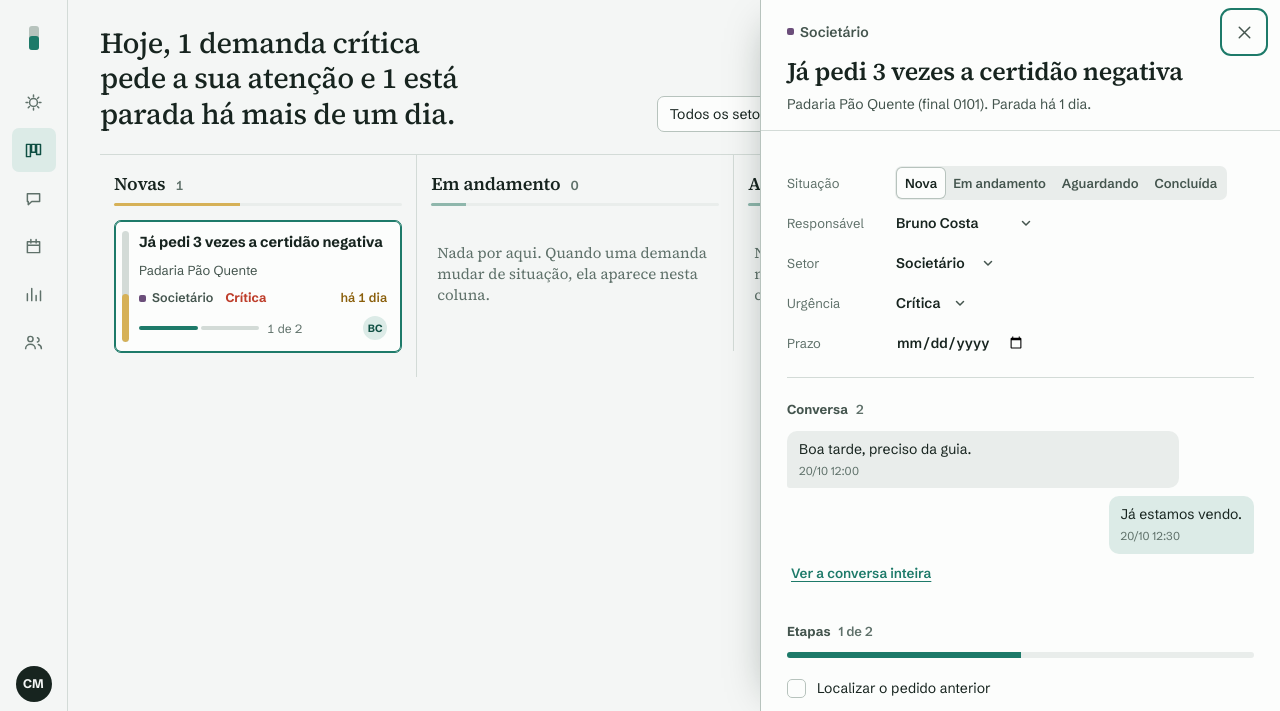
it: demand drawer: steps › ticks a step and saves it
The image size is (1280, 711).
Click the checkbox labelled "Localizar o pedido anterior": [904, 688] box [779,668,1246,708]
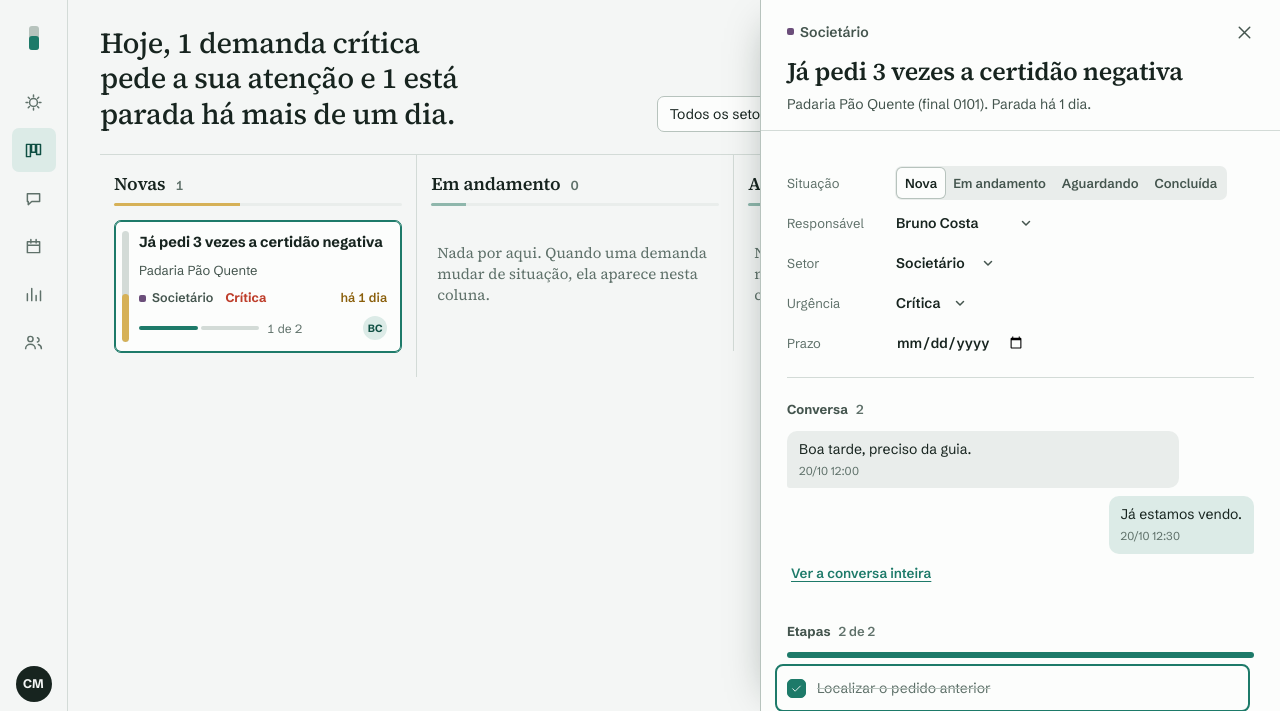
Result: the checkbox labelled "Localizar o pedido anterior" is checked at [779,668,1246,708]
Result: the text "2 de 2" is shown at [838,622,875,640]
